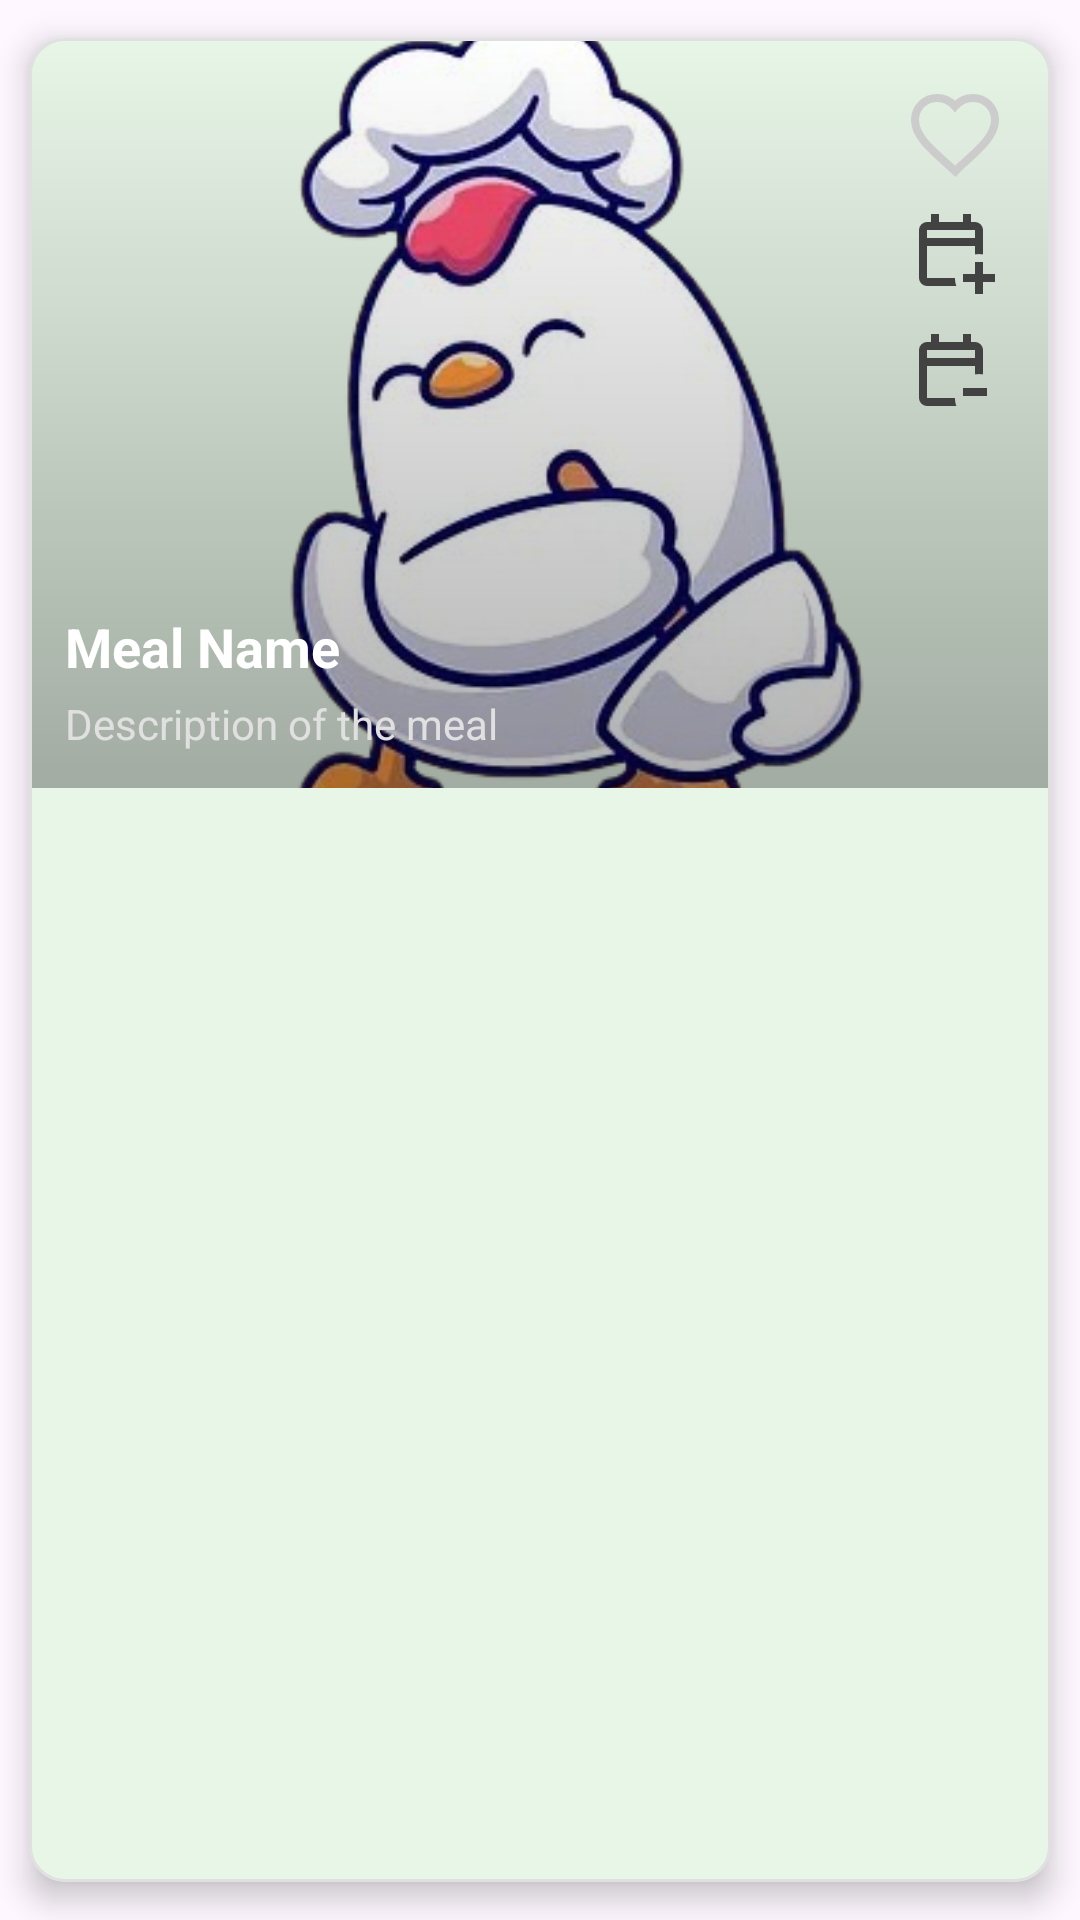

Screen size 1080 x 1920. Icon name, then its center in pixels as (x,y):
calendar add on: (957,254)
calendar delete off: (953,370)
heart: (955,135)
